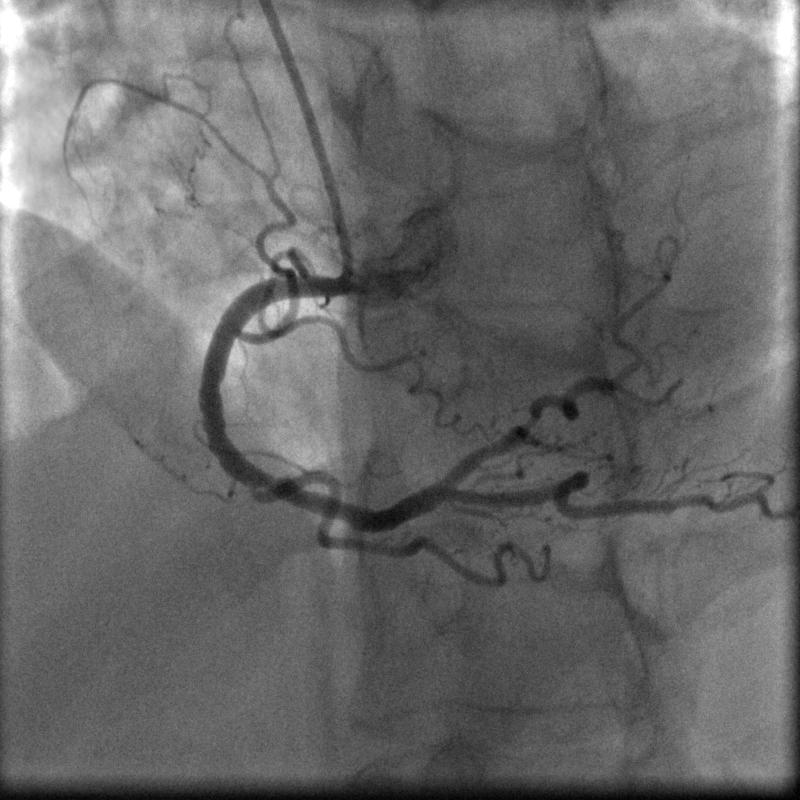Stenosis: (510, 399, 544, 438)
